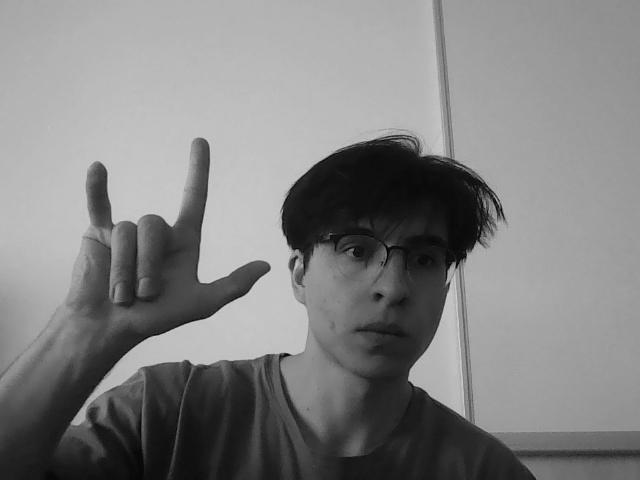I_Love_You: (55, 152, 243, 348)
